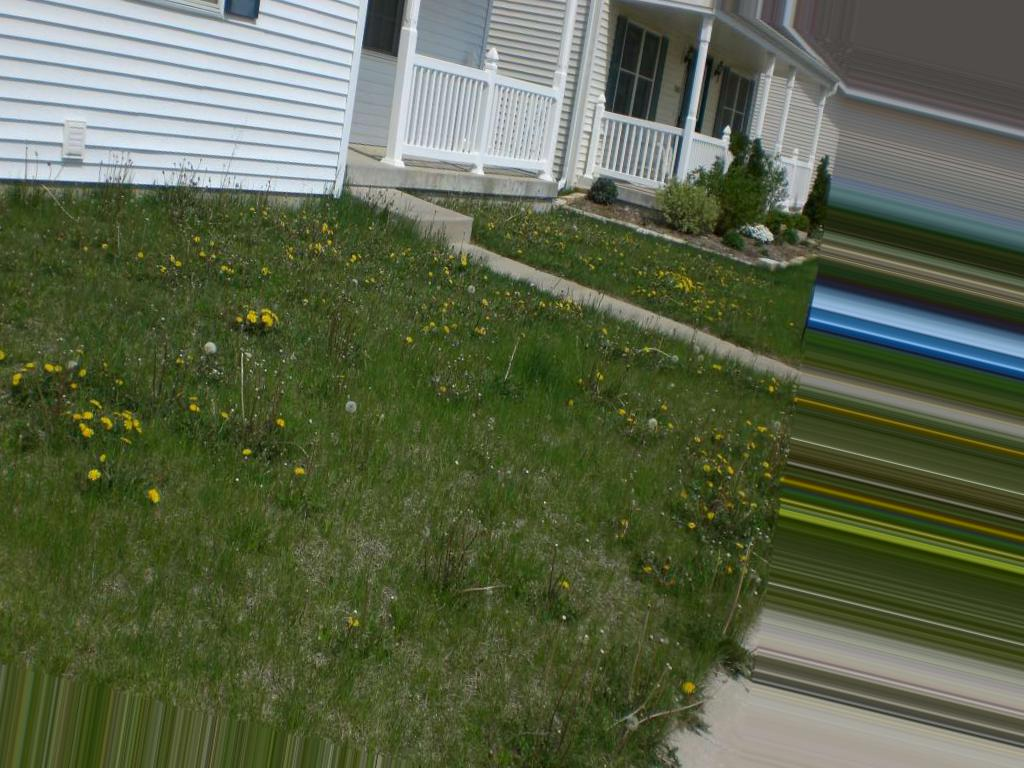patch: (317, 539, 398, 597)
